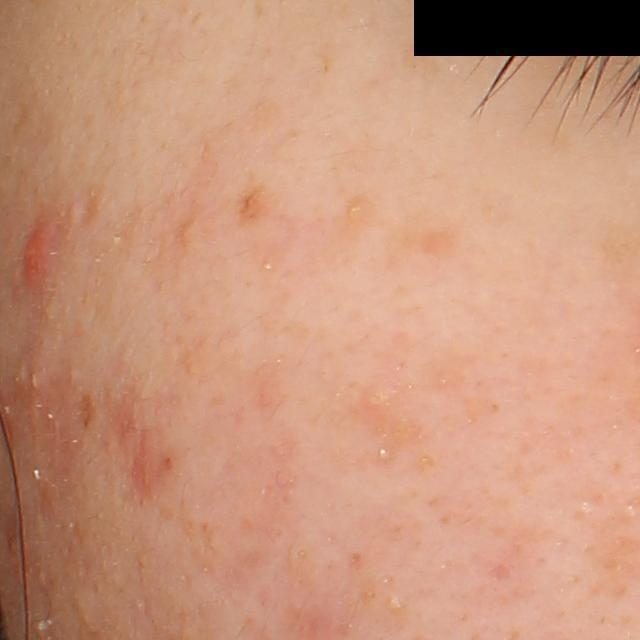comedo: (372, 441, 399, 467)
melasma: (402, 40, 438, 89)
papule: (16, 219, 65, 294)
